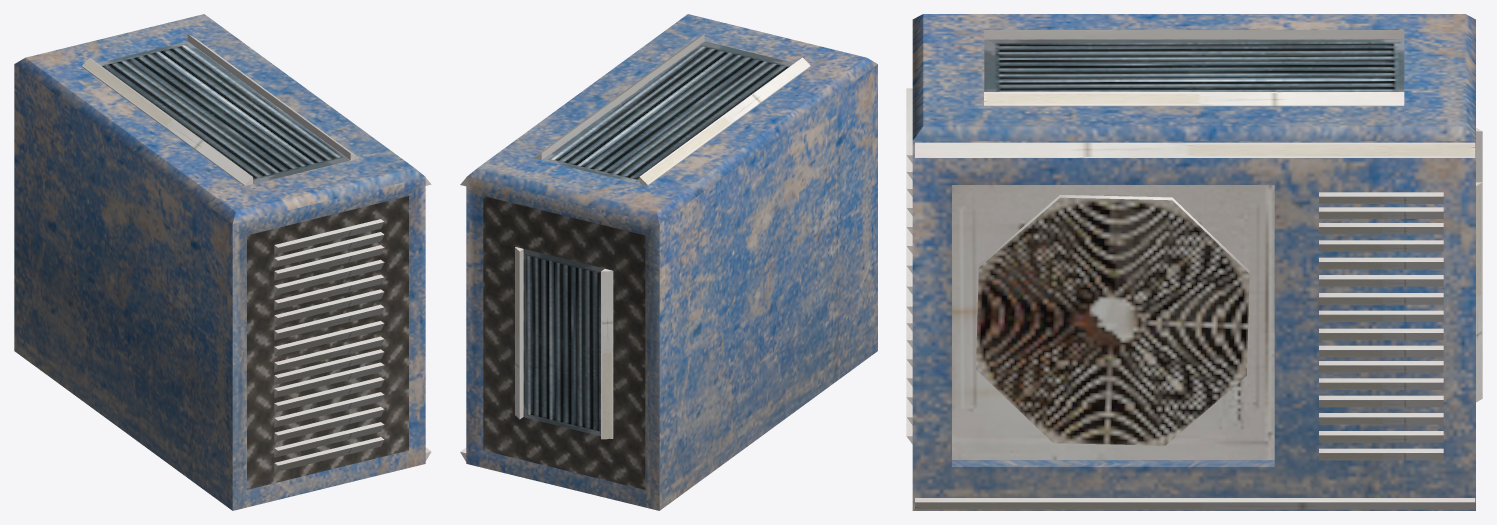
The model's file is Air Conditioner.fbx.
3 renders of one model, left to right at view 1: azimuth 30°, elevation 25°; view 2: azimuth 150°, elevation 25°; view 3: azimuth 270°, elevation 25°, orthographic. The views are drawn at different scales.
Visible parts, largest first — view 1: Box006; view 2: Box006; view 3: Box006.
Part boxes in pixels (box(x1,y1,x2,y2)): Box006: box(14, 14, 431, 510); Box006: box(460, 14, 877, 510); Box006: box(906, 14, 1482, 510).
Bounding box in the file's own units: 79.17 × 114 × 153.
1 material, 1 textured.
